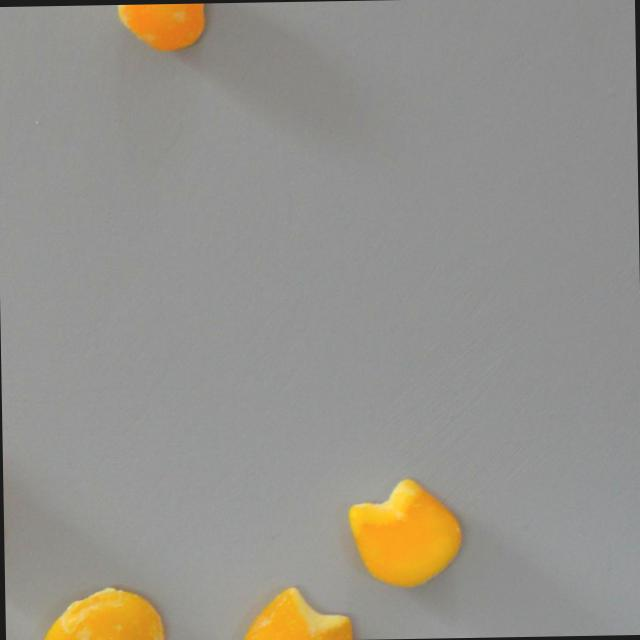no_canjicado: (348, 477, 464, 588), (111, 2, 212, 52)
pelicula: (35, 586, 165, 640), (240, 585, 353, 640)
